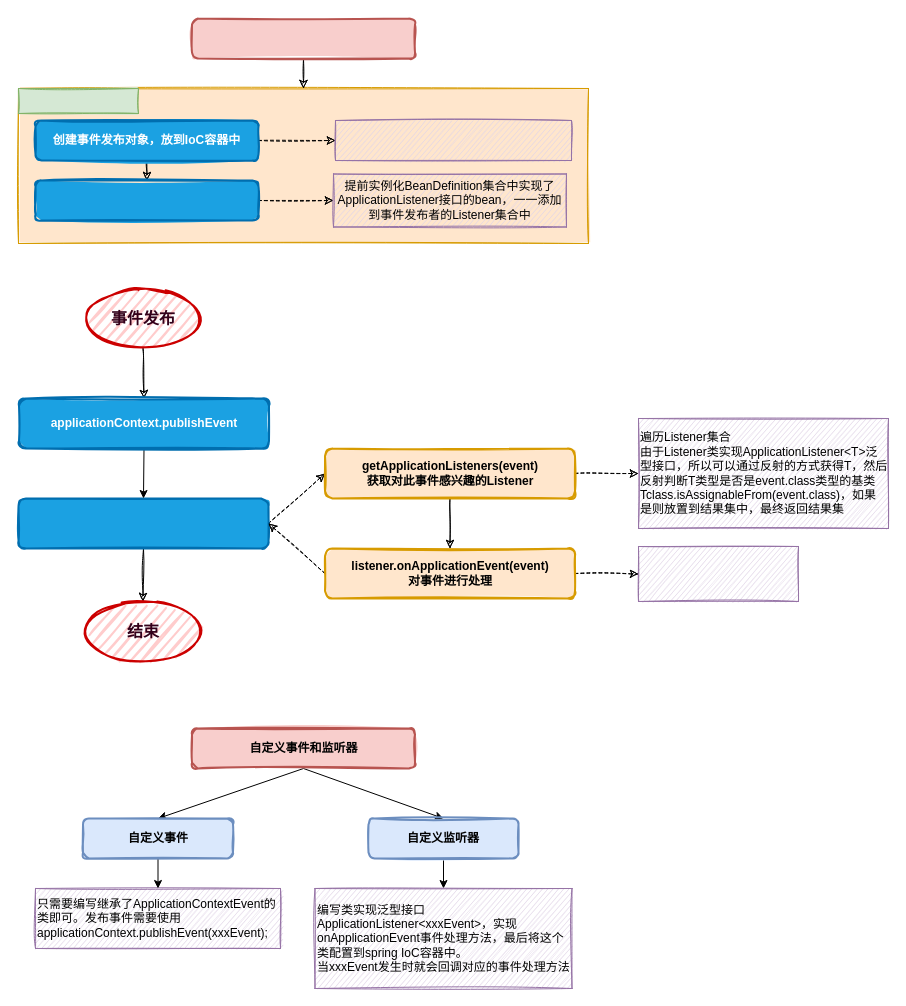
Some shapes in this 906 by 1006 pixel diagram are drawn without their labels. The box of each missing label's shape, as (x1, y1, x2, y2) in pixels:
refresh中事件监听相关部分: (190, 17, 416, 59)
registerListeners 注册事件监听者: (34, 179, 259, 221)
SimpleApplicationEventMulticaster #multicastEvent: (17, 497, 269, 549)
初始化事件处理: (18, 88, 138, 114)
调用对应的事件处理函数 （可写为lambda表达式）: (638, 546, 798, 602)
这里是SimpleApplicationEventMulticaster: (334, 120, 572, 160)
